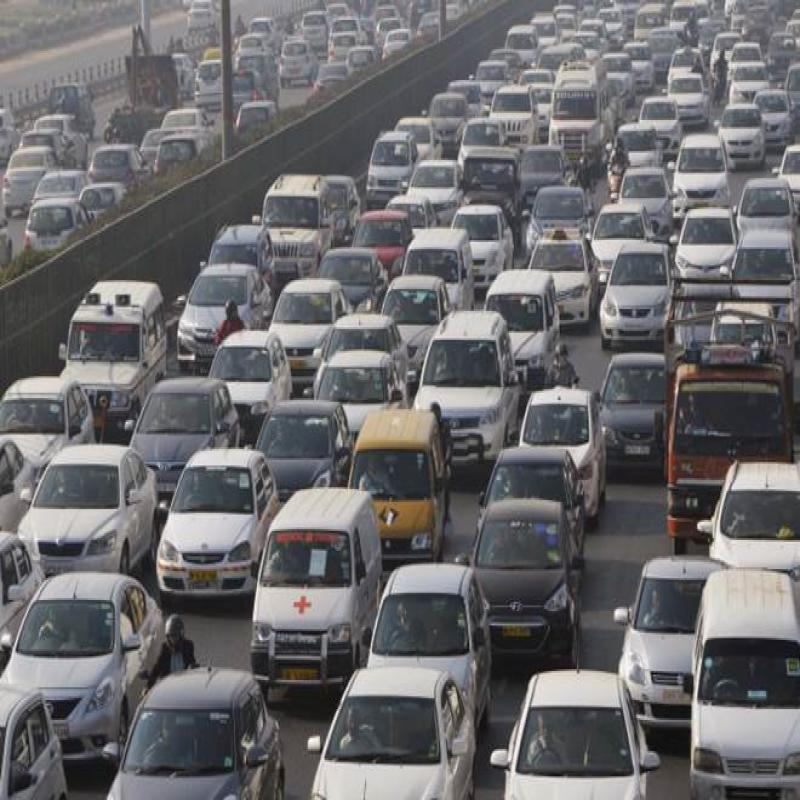ambulance: (241, 479, 365, 694)
